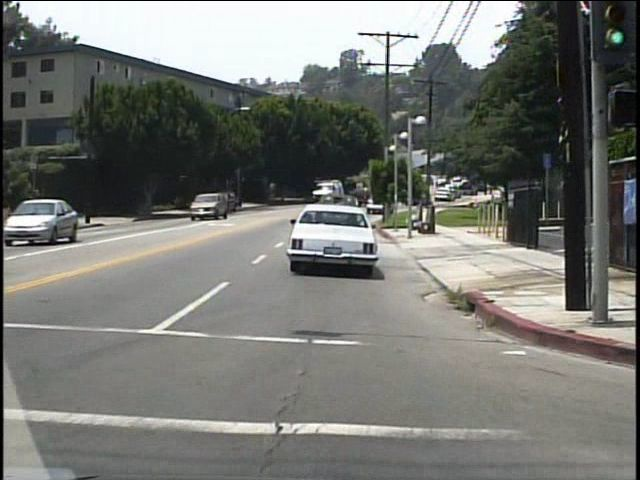person: (48, 200, 61, 228)
